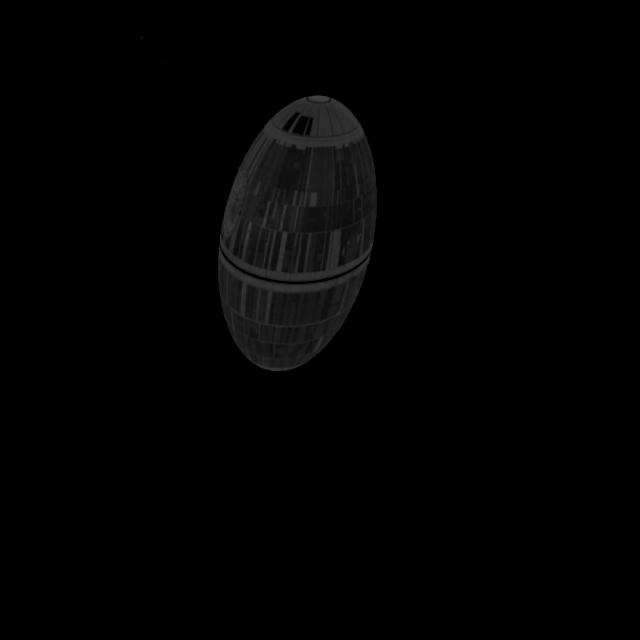death-stars: (220, 96, 381, 376)
